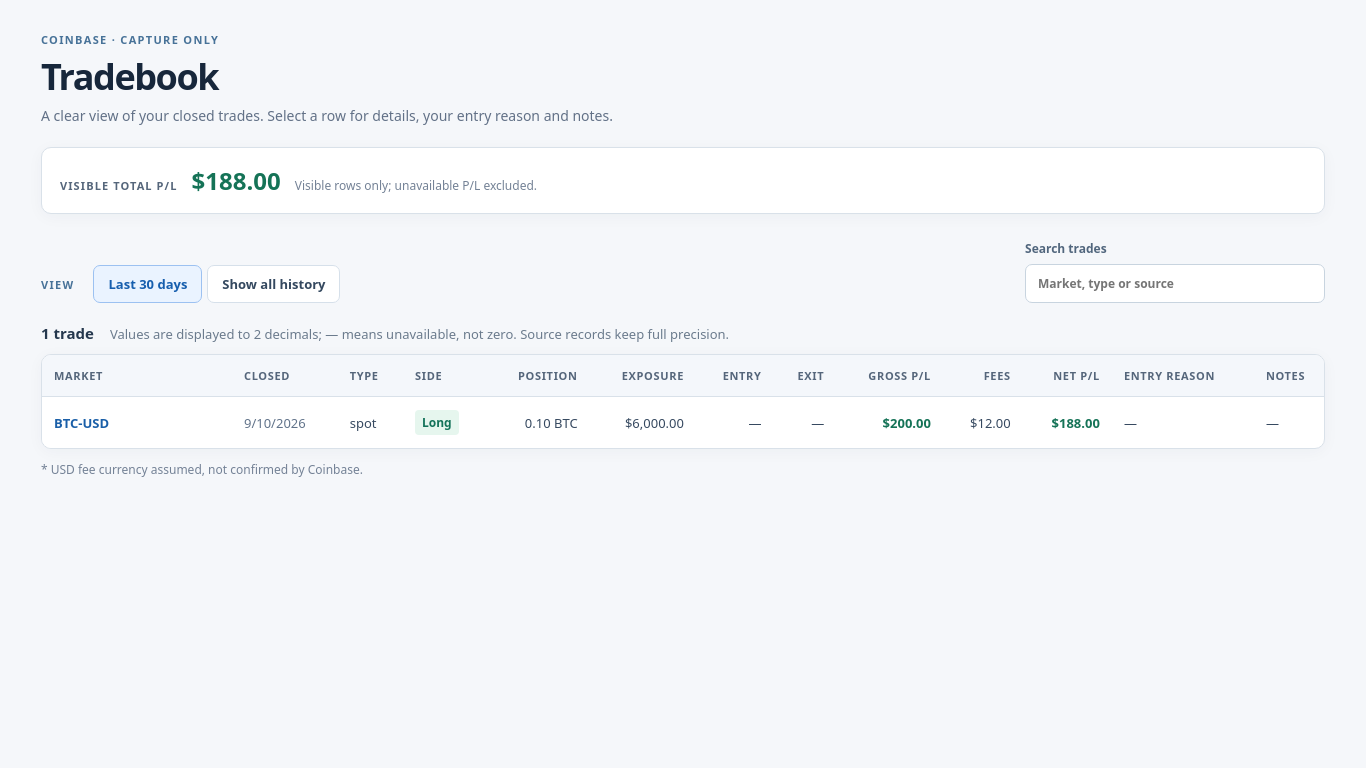
keeps the notes draft after a failed save
This screenshot has width=1366, height=768.
Click the button with aria-label "Open details for BTC-USD".
click(82, 423)  # box x1=54 y1=414 x2=109 y2=432
(page scrolled)
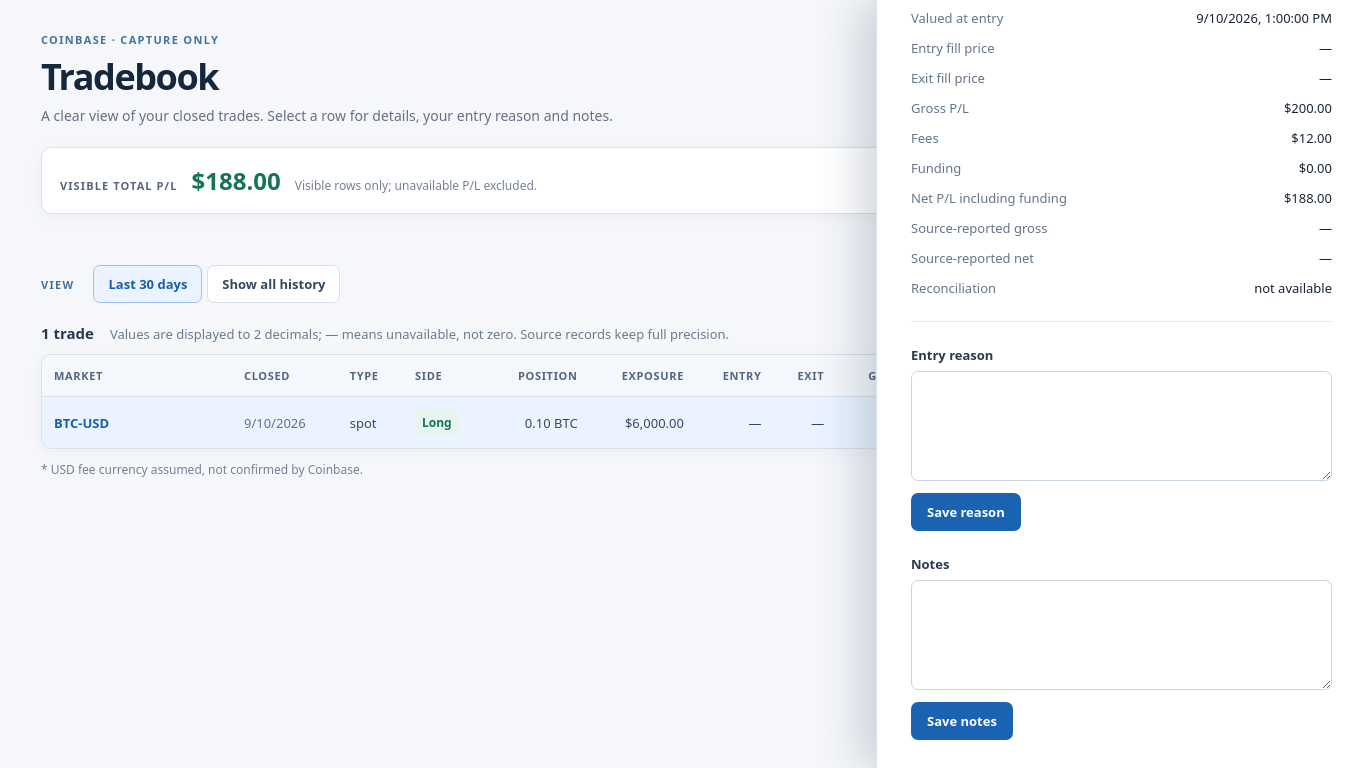
Type "Keep this draft" into the text box labelled "Notes".
click(1122, 635); type("Keep this draft")  # box x1=911 y1=580 x2=1332 y2=690
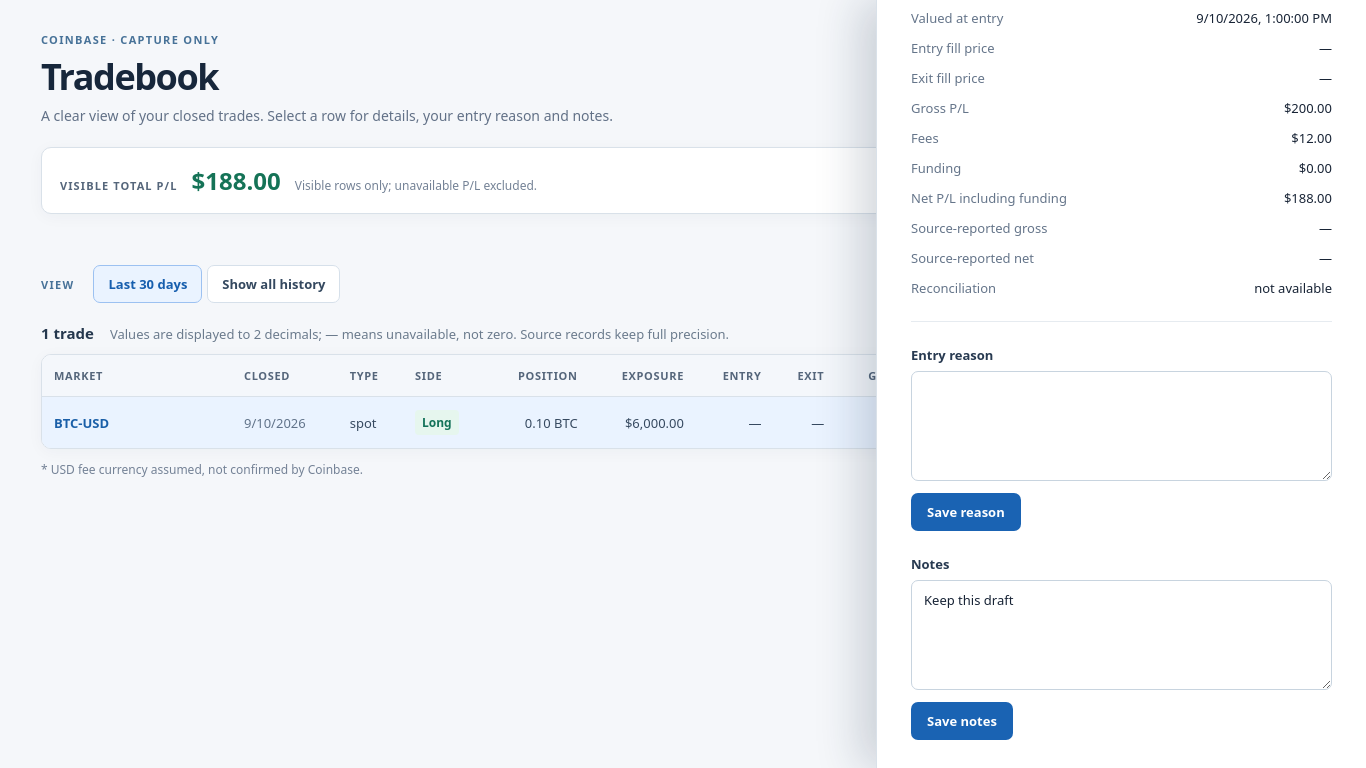
Click the button "Save notes".
click(962, 721)  # box x1=911 y1=702 x2=1013 y2=740
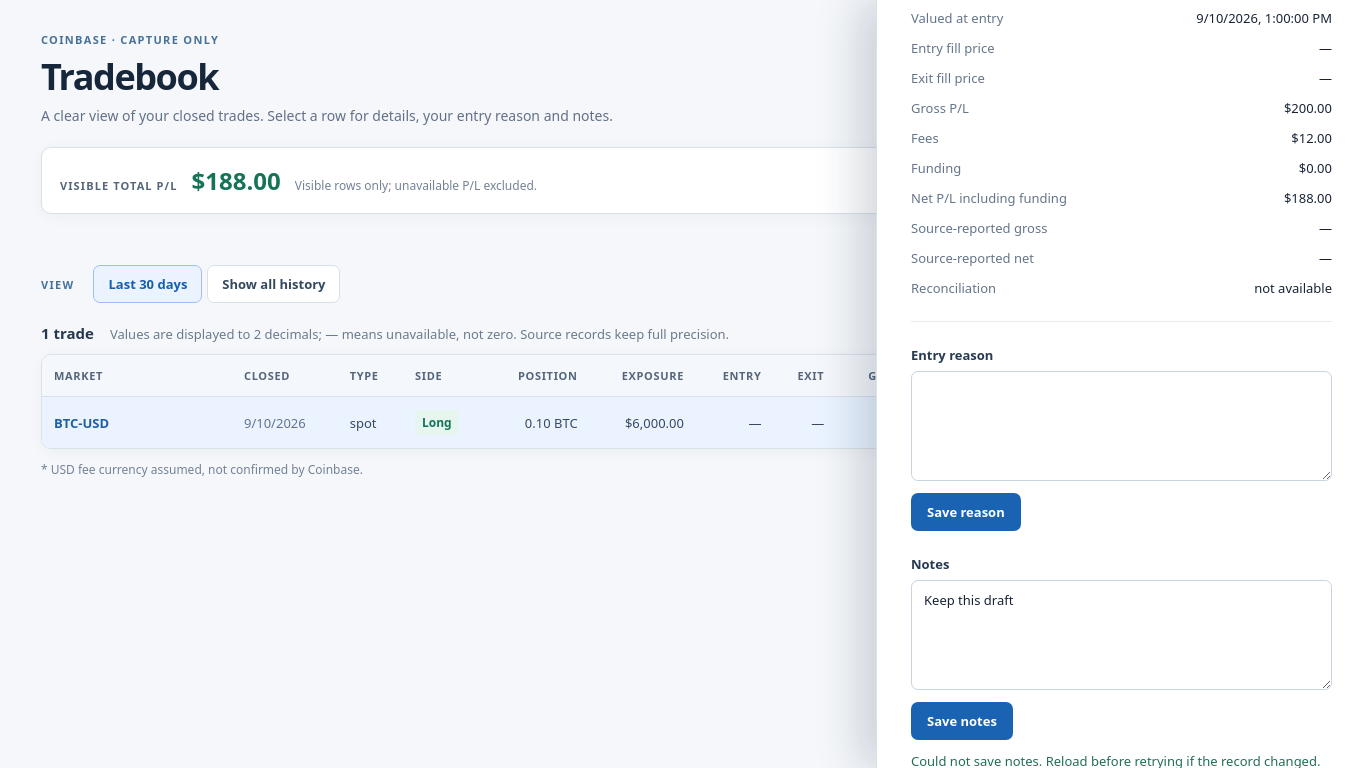
Expected: the text "Could not save notes. Reload before retrying if the record changed." is shown, x1=911 y1=752 x2=1332 y2=767
